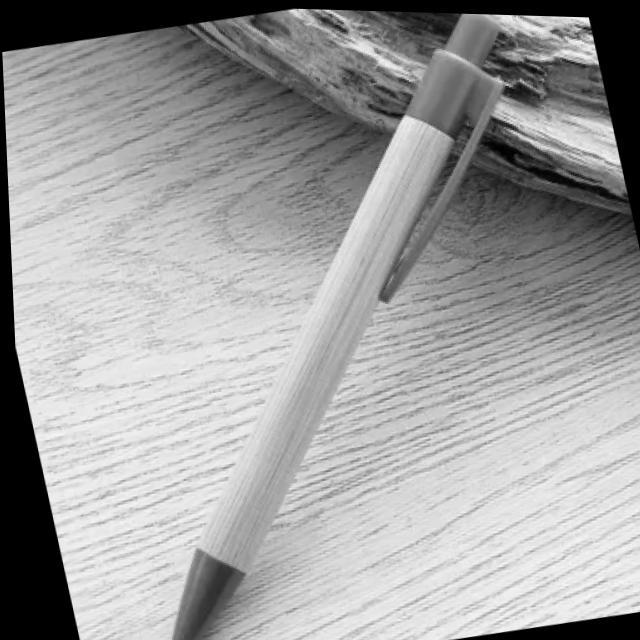pencil: (138, 8, 512, 635)
